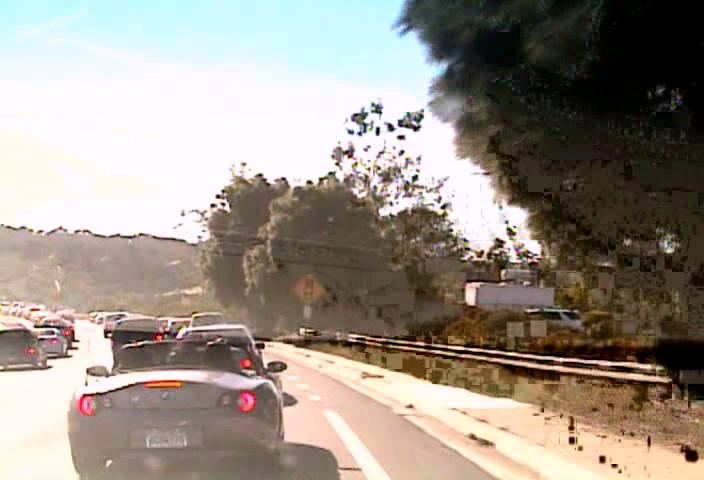signalAhead: (291, 271, 326, 305)
